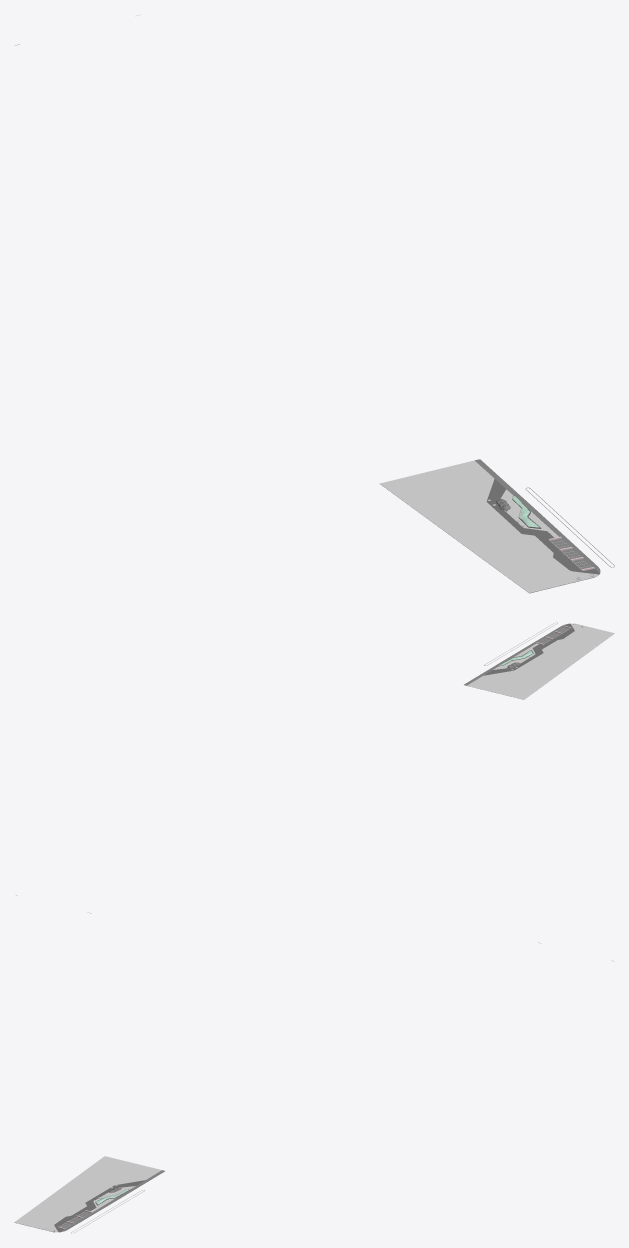
3 renders of one model, top to bottom at view 1: azimuth 30°, elevation 25°; view 2: azimuth 150°, elevation 25°; view 3: azimuth 330°, elevation 25°, orthographic. The views are drawn at different scales.
Visible parts, largest first — view 1: _0135_Da003; view 2: _0135_Da003; view 3: _0135_Da003.
Boxes of the visible parts, x1,y1,x2,y2 form: _0135_Da003: [15, 15, 614, 593]; _0135_Da003: [16, 622, 614, 913]; _0135_Da003: [14, 942, 613, 1233].
Size of the model in its own units: 14112 by 336 by 55708.
